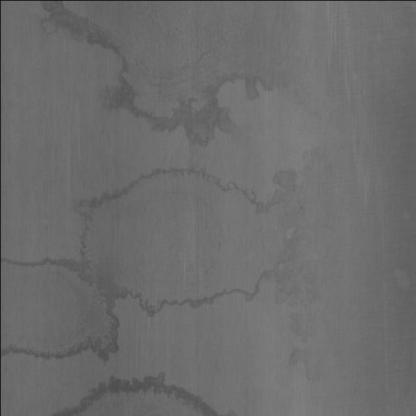water_spot: (227, 149, 343, 376), (160, 75, 225, 152), (67, 180, 109, 252), (76, 326, 116, 372), (112, 78, 146, 127), (241, 55, 269, 110), (75, 27, 115, 62), (129, 280, 158, 324), (14, 240, 48, 276), (140, 370, 173, 402)
